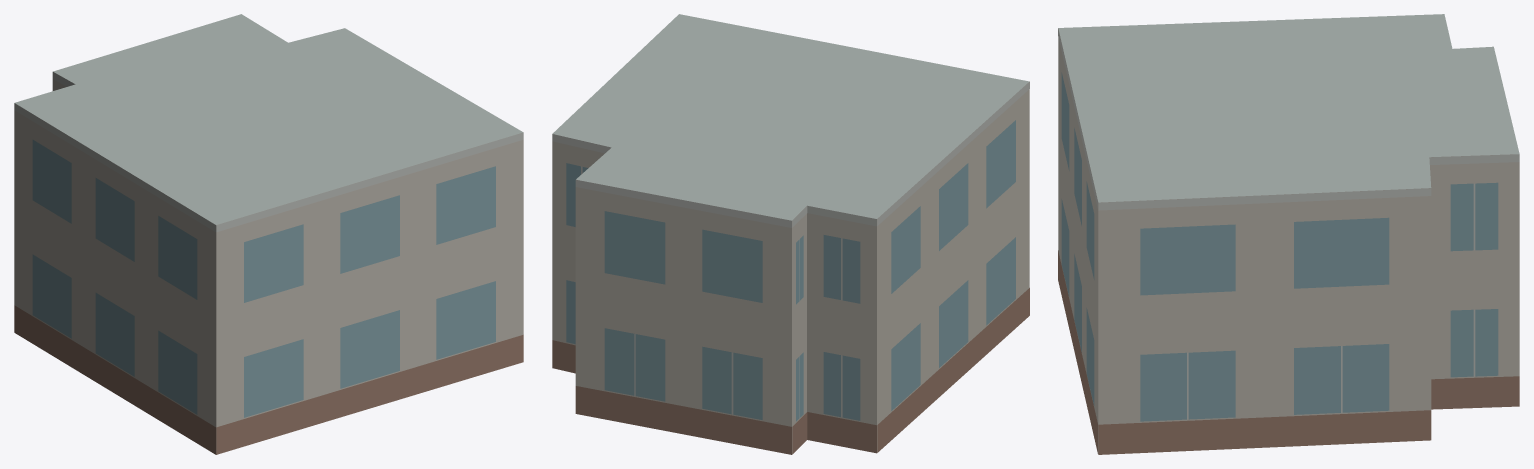
The model's file is survey-upis-32494640.glb.
3 views of the same model, side by side, from view 1: azimuth 30°, elevation 25°; view 2: azimuth 150°, elevation 25°; view 3: azimuth 270°, elevation 25° (orthographic). The views are drawn at different scales.
Parts seen in each view (by area): view 1: survey-upis-32494640.tmp; view 2: survey-upis-32494640.tmp; view 3: survey-upis-32494640.tmp.
Boxes of the visible parts, x1=… form: survey-upis-32494640.tmp: x1=14, y1=14, x2=523, y2=454; survey-upis-32494640.tmp: x1=552, y1=14, x2=1029, y2=454; survey-upis-32494640.tmp: x1=1058, y1=14, x2=1519, y2=454.
Bounding box in the file's own units: 12.35 × 7.7 × 12.77.
